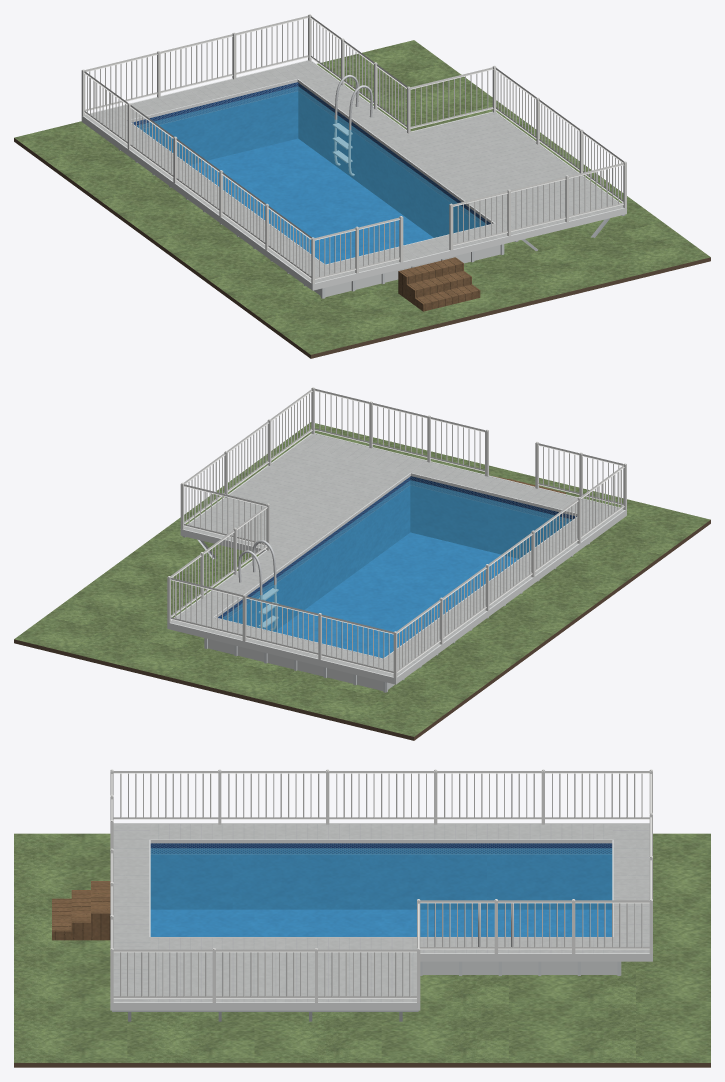
File: kayak-pool-12x24-white-l-rec-fence.b66cc0f9c8.glb
3 views of the same model, one above another, from view 1: azimuth 30°, elevation 25°; view 2: azimuth 150°, elevation 25°; view 3: azimuth 270°, elevation 25° (orthographic). The views are drawn at different scales.
Parts seen in each view (by area): view 1: ground, water, deck, fence, liner_wall, liner_floor, fascia, soil, steps, wall, steel; view 2: ground, water, deck, fence, liner_wall, liner_floor, fascia, soil, wall, steel; view 3: ground, water, deck, liner_wall, fence, liner_floor, fascia, soil, steps, wall, stud.
Part boxes in pixels (x1,y1,x2,y2): ground: (14,40,710,354); water: (137,86,487,264); deck: (84,60,623,282); fence: (81,14,626,284); liner_wall: (132,82,490,237); liner_floor: (190,138,433,264); fascia: (81,60,626,290); soil: (14,138,710,358); steps: (398,257,480,311); wall: (314,245,500,297); steel: (332,75,372,175); ground: (14,422,710,736); water: (221,480,571,658); deck: (171,434,623,676); fence: (167,387,626,678); liner_wall: (218,476,576,631); liner_floor: (275,532,518,658); fascia: (167,433,626,684); soil: (14,520,710,740); wall: (208,639,394,690); steel: (238,540,278,630); ground: (14,833,710,1062); water: (150,848,612,936); deck: (113,824,649,1002); liner_wall: (150,843,612,909); fence: (110,769,652,1002); liner_floor: (150,909,611,936); fascia: (110,823,652,1010); soil: (14,1063,710,1067); steps: (52,881,110,940); wall: (422,961,617,974); stud: (112,1010,418,1021).
Size of the model in its own units: 8.53 by 2.15 by 10.97.
Materials: 13 (5 with a texture image).
